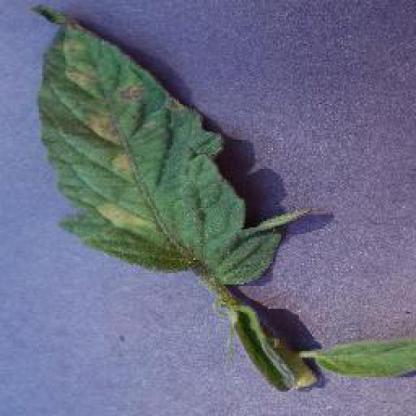Tomato_Leaf_Mold: (38, 14, 306, 282)
